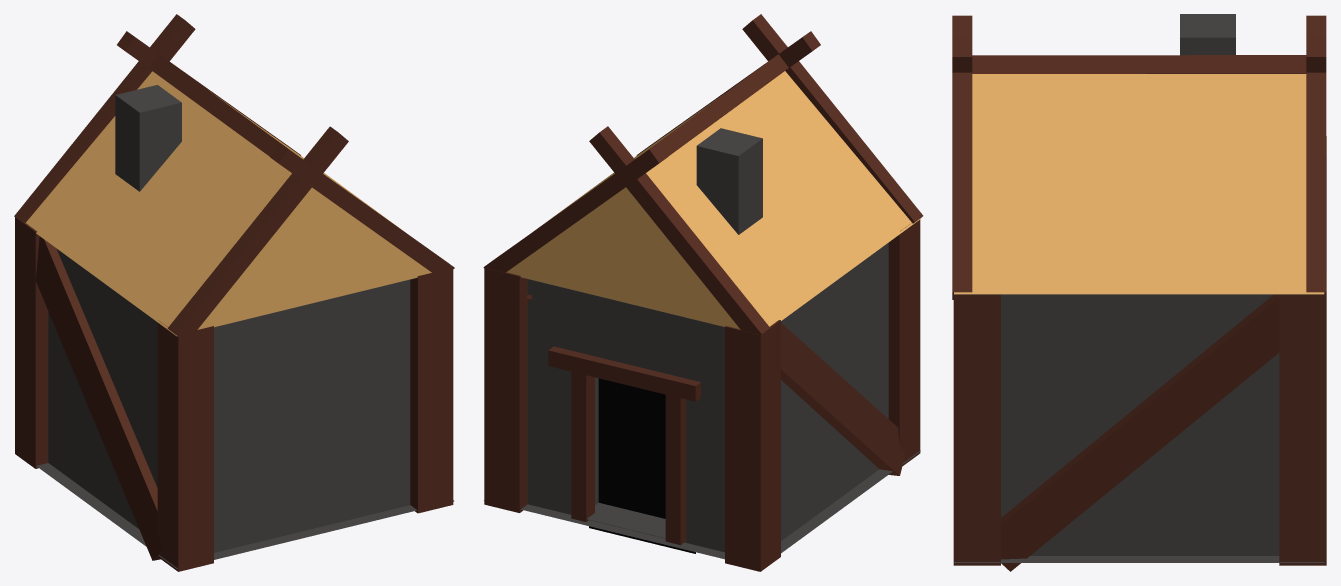
File: HouseLvl1.fbx
The picture shows the model from 3 angles, left to right: view 1: azimuth 30°, elevation 25°; view 2: azimuth 150°, elevation 25°; view 3: azimuth 270°, elevation 25°; orthographic projection. The views are drawn at different scales.
Visible parts, largest first — view 1: Cube.034; view 2: Cube.034; view 3: Cube.034.
Part boxes in pixels (box(x1,y1,x2,y2)): Cube.034: box(14, 14, 454, 571); Cube.034: box(483, 14, 923, 571); Cube.034: box(952, 14, 1326, 571).
Size of the model in its own units: 126 by 182 by 127.
